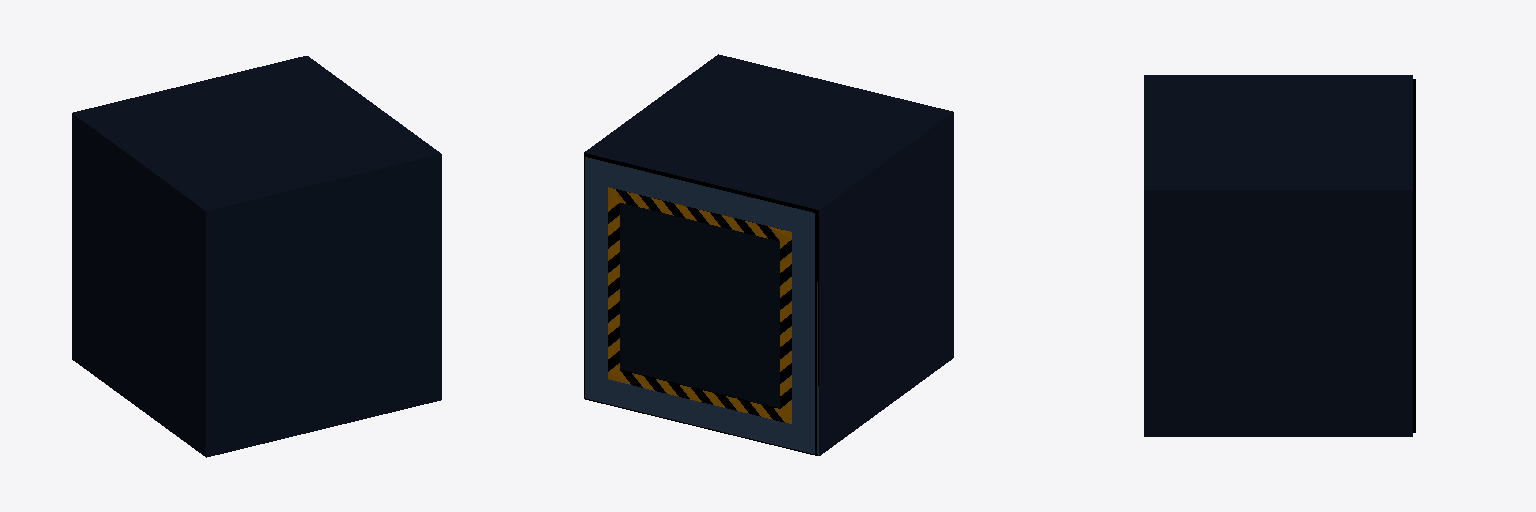
Rendered from 地面禁止.obj.
3 views of the same model, side by side, from view 1: azimuth 30°, elevation 25°; view 2: azimuth 150°, elevation 25°; view 3: azimuth 270°, elevation 25° (orthographic).
Visible parts, largest first — view 1: 地面禁止; view 2: 地面禁止; view 3: 地面禁止.
Boxes of the visible parts, x1,y1,x2,y2 form: 地面禁止: [72, 56, 441, 457]; 地面禁止: [584, 54, 953, 455]; 地面禁止: [1144, 75, 1415, 436].
Bounding box in the file's own units: 1 × 1 × 1.